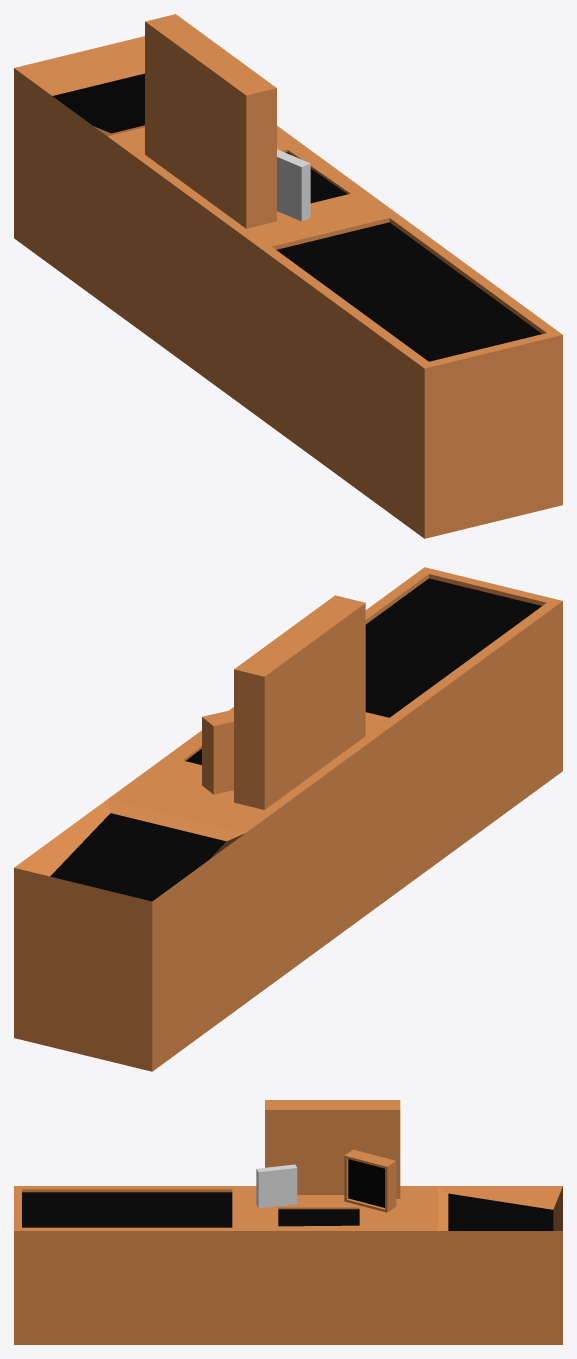
3 renders of one model, top to bottom at view 1: azimuth 30°, elevation 25°; view 2: azimuth 150°, elevation 25°; view 3: azimuth 270°, elevation 25°, orthographic. The views are drawn at different scales.
Visible parts, largest first — view 1: КАССА.001, КАССА.002, КАССА.003; view 2: КАССА.001, КАССА.002, КАССА.004; view 3: КАССА.001, КАССА.002, КАССА.004, КАССА.003.
Boxes of the visible parts, bbox=[...] form: КАССА.001: bbox=[14, 14, 562, 538]; КАССА.002: bbox=[276, 222, 541, 361]; КАССА.003: bbox=[277, 149, 310, 221]; КАССА.001: bbox=[14, 567, 562, 1071]; КАССА.002: bbox=[365, 578, 541, 717]; КАССА.004: bbox=[202, 709, 233, 794]; КАССА.001: bbox=[14, 1100, 562, 1344]; КАССА.002: bbox=[22, 1192, 232, 1227]; КАССА.004: bbox=[344, 1149, 396, 1212]; КАССА.003: bbox=[256, 1164, 297, 1208].
Size of the model in its own units: 121 by 255 by 624.
